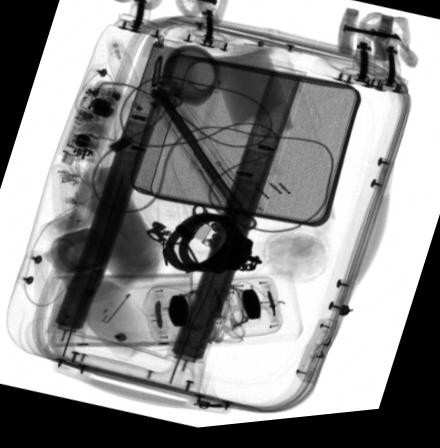HandCuffs: (160, 216, 267, 279)
